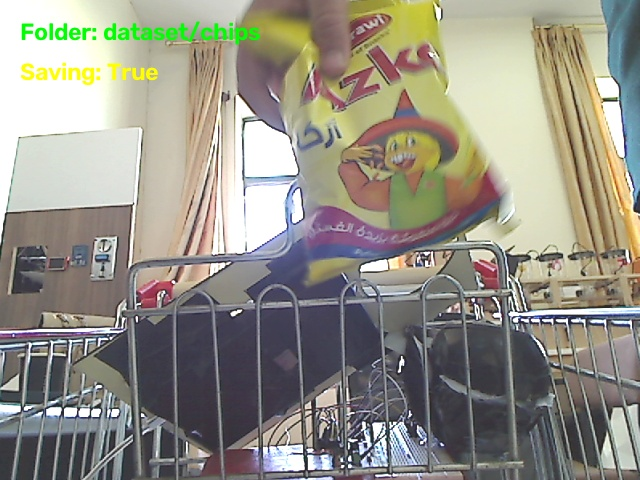chips: (244, 0, 512, 283)
